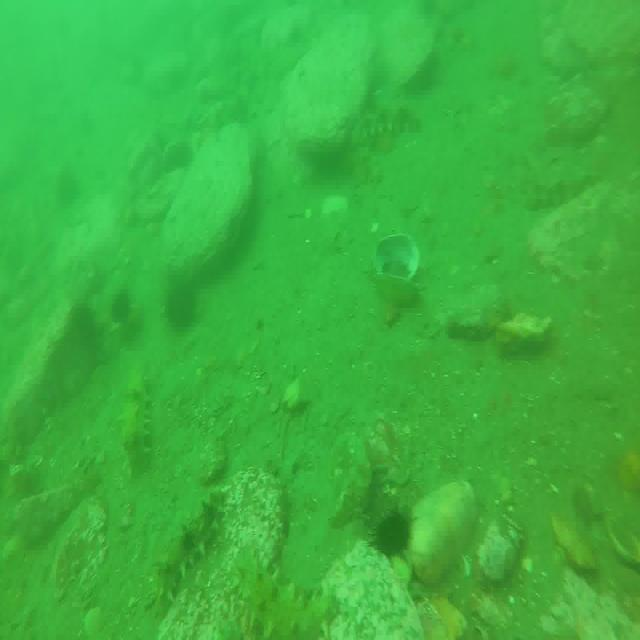echinus: (370, 504, 414, 559), (164, 285, 197, 332)
holothurian: (231, 554, 337, 640), (152, 488, 221, 620), (354, 98, 427, 137), (123, 373, 150, 471)
scallop: (374, 233, 423, 312)
